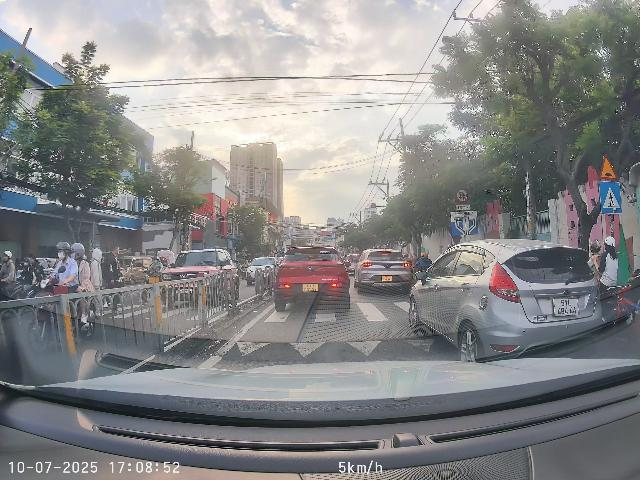124b-cam-oto-quay-dau-xe: (455, 188, 469, 203)
221-duong-go-ghe: (599, 154, 618, 180)
423a-duong-nguoi-di-bo-sang-ngang-1: (599, 181, 622, 214)
